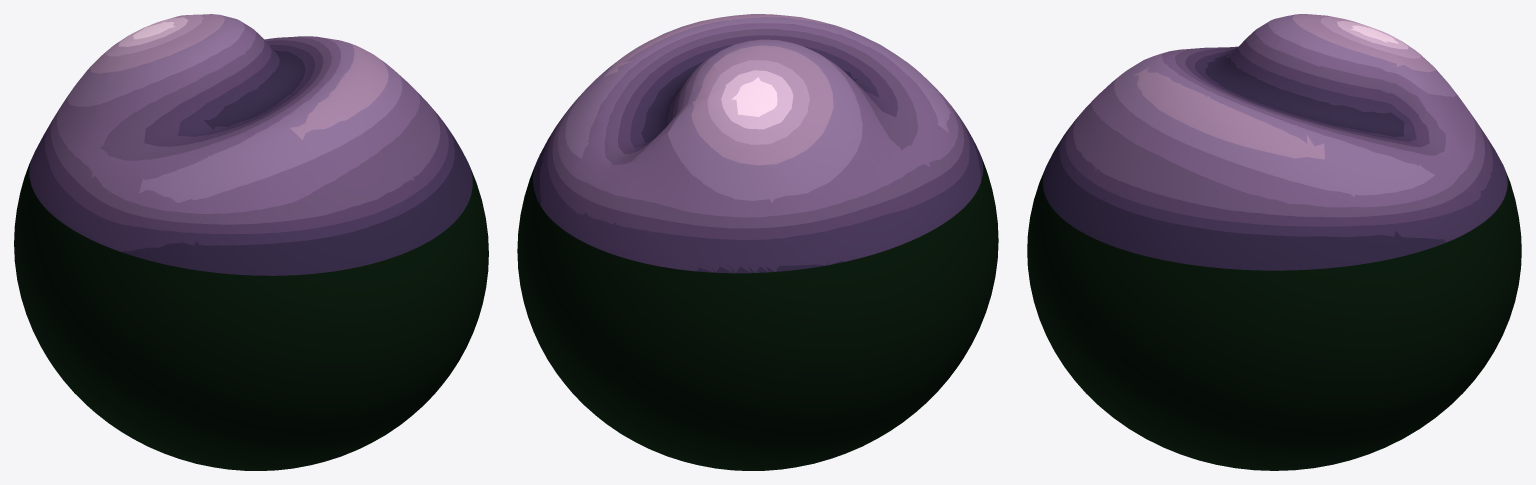
Rendered from orb_whorl_119.glb.
The picture shows the model from 3 angles, left to right: view 1: azimuth 30°, elevation 25°; view 2: azimuth 150°, elevation 25°; view 3: azimuth 270°, elevation 25°; orthographic projection.
Parts seen in each view (by area): view 1: orb_whorl_119; view 2: orb_whorl_119; view 3: orb_whorl_119.
Boxes of the visible parts, box(x1,y1,x2,y2) form: orb_whorl_119: box(14, 14, 488, 470); orb_whorl_119: box(517, 14, 998, 470); orb_whorl_119: box(1027, 14, 1521, 470).
Bounding box in the file's own units: 17 × 16.44 × 18.
